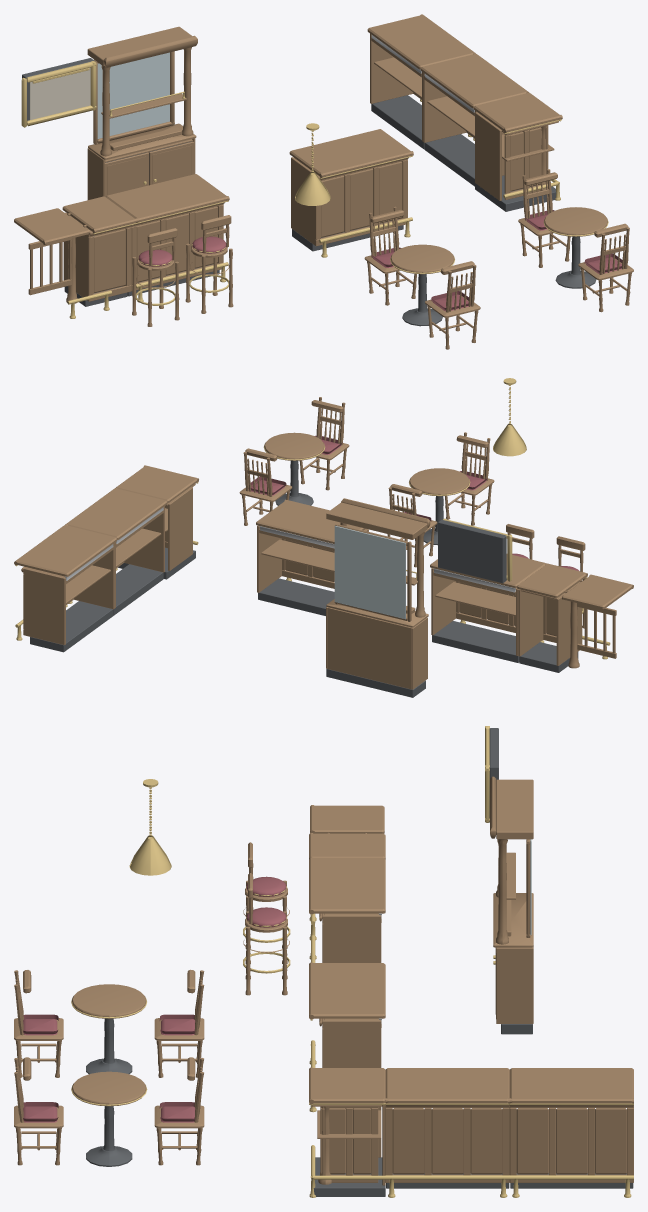
The model's file is pub-bar-room-light.glb.
3 renders of one model, top to bottom at view 1: azimuth 30°, elevation 25°; view 2: azimuth 150°, elevation 25°; view 3: azimuth 270°, elevation 25°, orthographic. The views are drawn at different scales.
Parts seen in each view (by area): view 1: 003-bar-counter-module1, 009-back-bar-mirrored-bay1, 001-bar-counter-module1, 005-bar-counter-corner1, 000-bar-counter-end-flap1, 007-bar-counter-module1, 006-bar-counter-module1, 009-back-bar-mirrored-bay7, 013-back-bar-lightbox2, 049-spindle-back-chair0, 046-spindle-back-chair0, 045-spindle-back-chair0 (+19 smaller); view 2: 009-back-bar-mirrored-bay1, 007-bar-counter-module1, 003-bar-counter-module1, 009-back-bar-mirrored-bay7, 000-bar-counter-end-flap1, 001-bar-counter-module1, 006-bar-counter-module1, 005-bar-counter-corner1, 013-back-bar-lightbox0, 001-bar-counter-module0, 003-bar-counter-module0, 007-bar-counter-module0 (+14 smaller); view 3: 006-bar-counter-module1, 007-bar-counter-module1, 009-back-bar-mirrored-bay1, 005-bar-counter-corner1, 001-bar-counter-module1, 003-bar-counter-module1, 000-bar-counter-end-flaplift-flap, 047-pub-table-round-pedestal1, 044-pub-table-round-pedestal1, 000-bar-counter-end-flap1, 049-spindle-back-chair0, 048-spindle-back-chair0 (+16 smaller).
Boxes of the visible parts, x1=… form: 003-bar-counter-module1: x1=289, y1=129, x2=413, y2=246; 009-back-bar-mirrored-bay1: x1=87, y1=26, x2=197, y2=199; 001-bar-counter-module1: x1=106, y1=174, x2=229, y2=290; 005-bar-counter-corner1: x1=474, y1=92, x2=562, y2=200; 000-bar-counter-end-flap1: x1=62, y1=196, x2=137, y2=303; 007-bar-counter-module1: x1=367, y1=14, x2=475, y2=141; 006-bar-counter-module1: x1=421, y1=53, x2=528, y2=142; 009-back-bar-mirrored-bay7: x1=97, y1=52, x2=169, y2=138; 013-back-bar-lightbox2: x1=29, y1=67, x2=90, y2=119; 049-spindle-back-chair0: x1=578, y1=223, x2=633, y2=312; 046-spindle-back-chair0: x1=425, y1=261, x2=480, y2=349; 045-spindle-back-chair0: x1=364, y1=206, x2=416, y2=305; 009-back-bar-mirrored-bay1: x1=326, y1=498, x2=430, y2=689; 007-bar-counter-module1: x1=14, y1=524, x2=116, y2=644; 003-bar-counter-module1: x1=256, y1=499, x2=368, y2=592; 009-back-bar-mirrored-bay7: x1=334, y1=525, x2=405, y2=619; 000-bar-counter-end-flap1: x1=517, y1=563, x2=587, y2=668; 001-bar-counter-module1: x1=430, y1=554, x2=545, y2=655; 006-bar-counter-module1: x1=65, y1=488, x2=167, y2=607; 005-bar-counter-corner1: x1=116, y1=465, x2=198, y2=570; 013-back-bar-lightbox0: x1=438, y1=520, x2=506, y2=583; 001-bar-counter-module0: x1=432, y1=621, x2=519, y2=662; 003-bar-counter-module0: x1=258, y1=578, x2=334, y2=615; 007-bar-counter-module0: x1=30, y1=601, x2=113, y2=652; 006-bar-counter-module1: x1=385, y1=1068, x2=509, y2=1182; 007-bar-counter-module1: x1=509, y1=1068, x2=633, y2=1182; 009-back-bar-mirrored-bay1: x1=490, y1=776, x2=533, y2=1023; 005-bar-counter-corner1: x1=309, y1=1067, x2=385, y2=1185; 001-bar-counter-module1: x1=309, y1=857, x2=385, y2=962; 003-bar-counter-module1: x1=309, y1=962, x2=385, y2=1067; 000-bar-counter-end-flaplift-flap: x1=310, y1=805, x2=384, y2=833; 047-pub-table-round-pedestal1: x1=72, y1=1071, x2=146, y2=1106; 044-pub-table-round-pedestal1: x1=72, y1=984, x2=146, y2=1018; 000-bar-counter-end-flap1: x1=309, y1=833, x2=385, y2=859; 049-spindle-back-chair0: x1=14, y1=1057, x2=63, y2=1165; 048-spindle-back-chair0: x1=154, y1=1057, x2=204, y2=1165.
Size of the model in its own units: 6.74 by 2.5 by 5.99.
